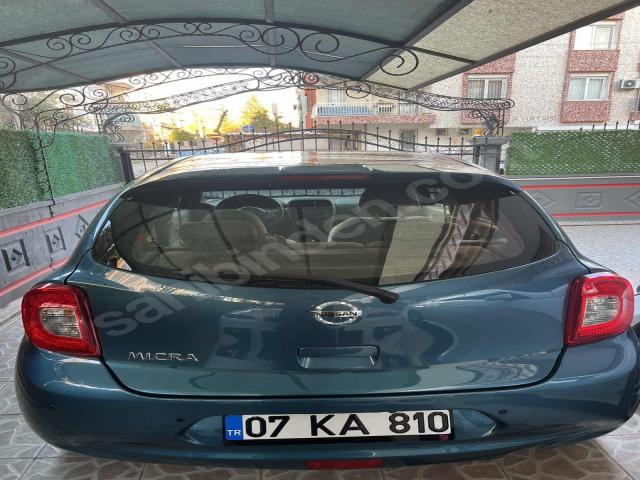plaka: (225, 409, 451, 440)
